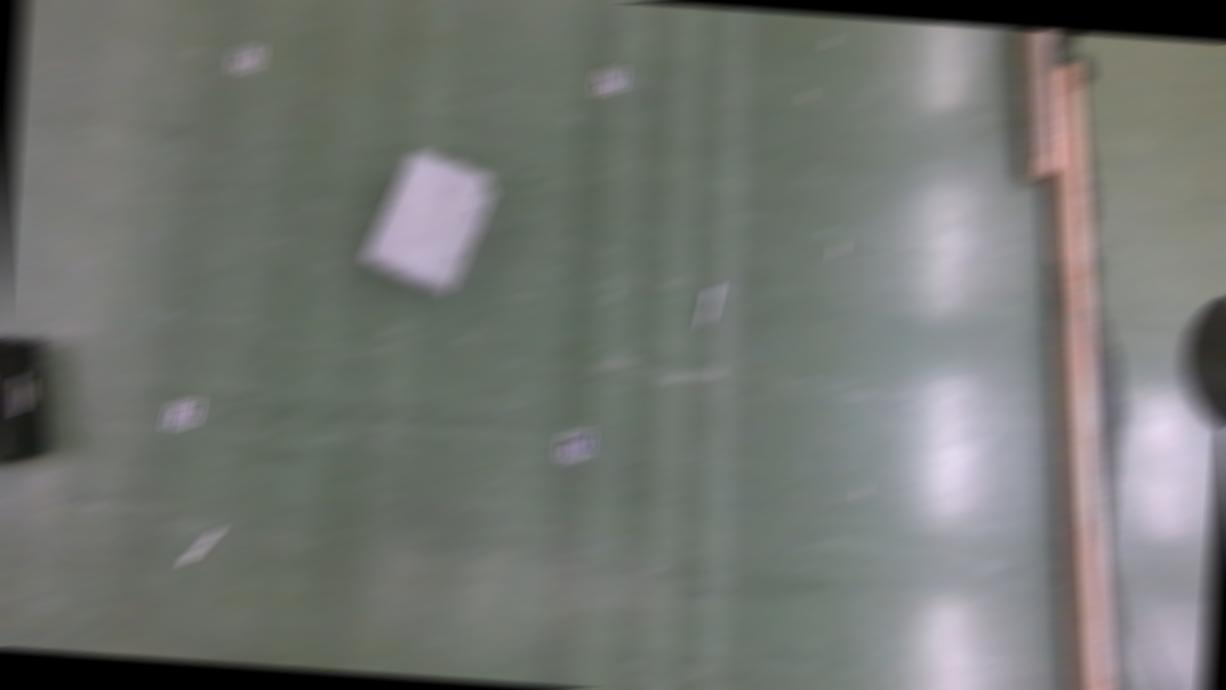probes: (182, 526, 220, 567), (700, 287, 719, 328)
rako: (358, 148, 496, 300), (0, 335, 56, 475)
